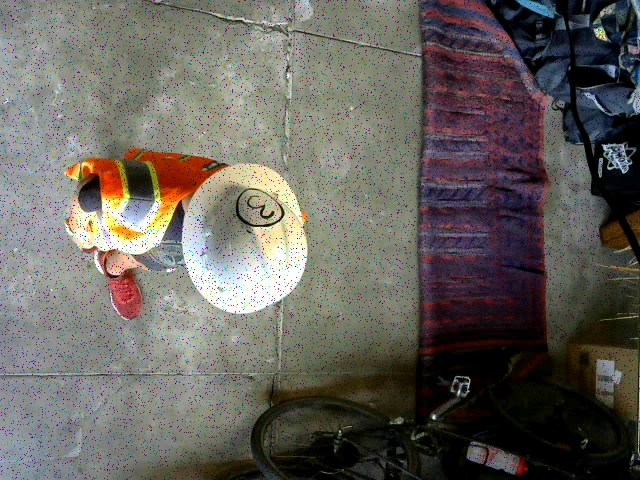three: (234, 188, 284, 226)
